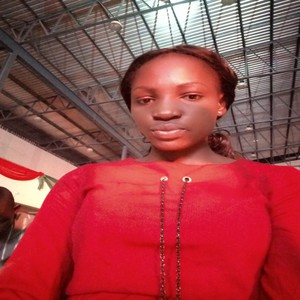Fulokoja_female_student: (116, 47, 233, 300)
